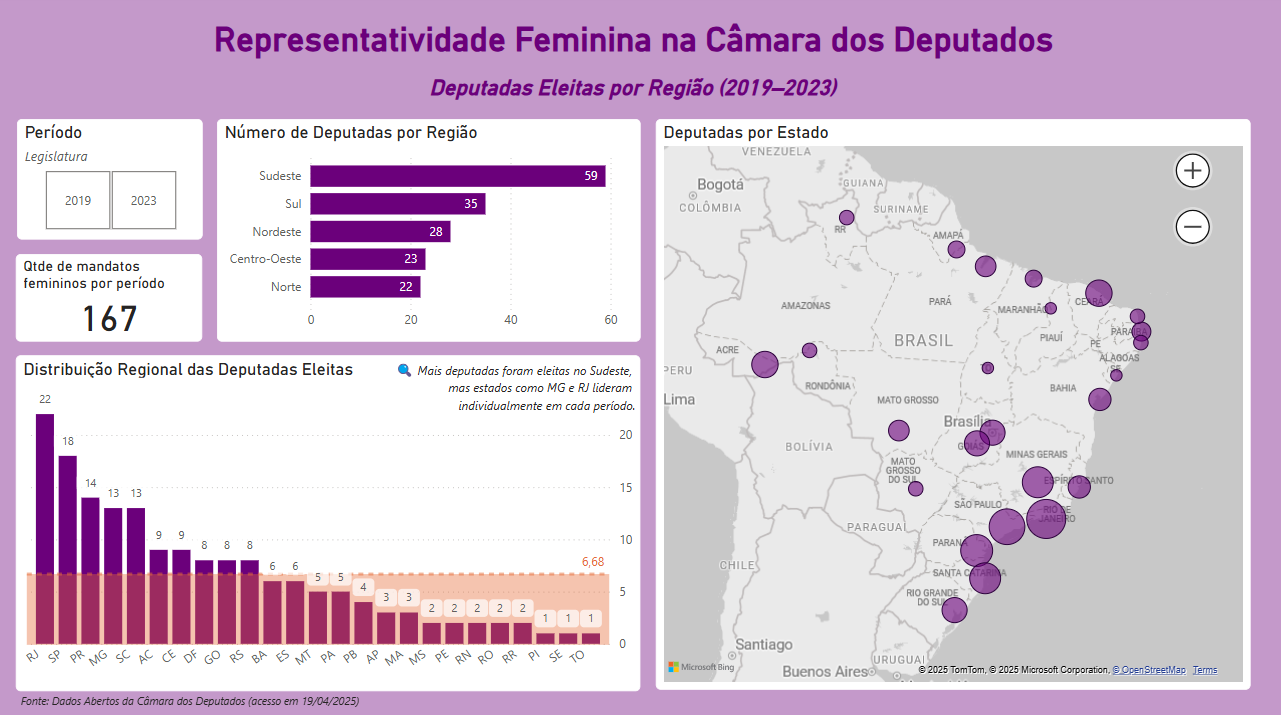

The dashboard page shown, as its layout file describes it:
{"tool":"powerbi","page":{"name":"3. Distribuição Geográfica","canvas":[1280,720],"ordinal":2},"visuals":[{"type":"lineStackedColumnComboChart","title":"Distribuição Regional das Deputadas Eleitas","fields":{"Series":["deputadas.sexo"],"Category":["deputadas.siglaUf"],"Y":["CountNonNull(deputadas.id)"]},"box":[18.3,359.6,621.7,334.2],"z":0},{"type":"card","title":"Análise da Igualdade de Gênero na Câmara dos Deputados","fields":{"Values":["Min(TituloPagina.Titulo)"]},"box":[19.3,11.2,1227.2,63],"z":1000},{"type":"slicer","title":"Período","fields":{"Values":["deputadas.anoInicioLegislatura"]},"box":[19.5,124.5,184.8,119.6],"z":2000},{"type":"card","title":"Qtde de mandatos femininos por período","fields":{"Values":["CountNonNull(deputadas.id)"]},"box":[18.3,259,185.9,87.4],"z":3000},{"type":"card","title":"Análise da Igualdade de Gênero na Câmara dos Deputados","fields":{"Values":["Min(TituloPagina.Subtitulo3)"]},"box":[18.3,74.2,1227.2,36.6],"z":4000},{"type":"map","title":"Deputadas por Estado","fields":{"Category":["deputadas.NomeEstado"],"Series":["deputadas.sexo"],"Size":["CountNonNull(deputadas.sexo)"]},"box":[655.2,125,592.3,567.9],"z":5000},{"type":"clusteredBarChart","title":"Número de Deputadas por Região","fields":{"Category":["deputadas.Regiao"],"Series":["deputadas.sexo"],"Y":["CountNonNull(deputadas.id)"]},"box":[218.4,125,421.6,221.5],"z":6000},{"type":"textbox","box":[19,688.3,1228.7,31.7],"z":7000},{"type":"textbox","box":[366.7,359.9,273.3,69.1],"z":8000}]}

Visuals, with their boxes in screenshot pixels (x1, y1, x2, y2), scaled from the page's 1280x720 canvas onto the 1281x715 screenshot:
"Distribuição Regional das Deputadas Eleitas" lineStackedColumnComboChart: bbox=[18, 357, 640, 689]
"Análise da Igualdade de Gênero na Câmara dos Deputados" card: bbox=[19, 11, 1247, 74]
"Período" slicer: bbox=[20, 124, 204, 242]
"Qtde de mandatos femininos por período" card: bbox=[18, 257, 204, 344]
"Análise da Igualdade de Gênero na Câmara dos Deputados" card: bbox=[18, 74, 1246, 110]
"Deputadas por Estado" map: bbox=[656, 124, 1248, 688]
"Número de Deputadas por Região" clusteredBarChart: bbox=[219, 124, 640, 344]
textbox: bbox=[19, 684, 1249, 714]
textbox: bbox=[367, 357, 640, 426]
